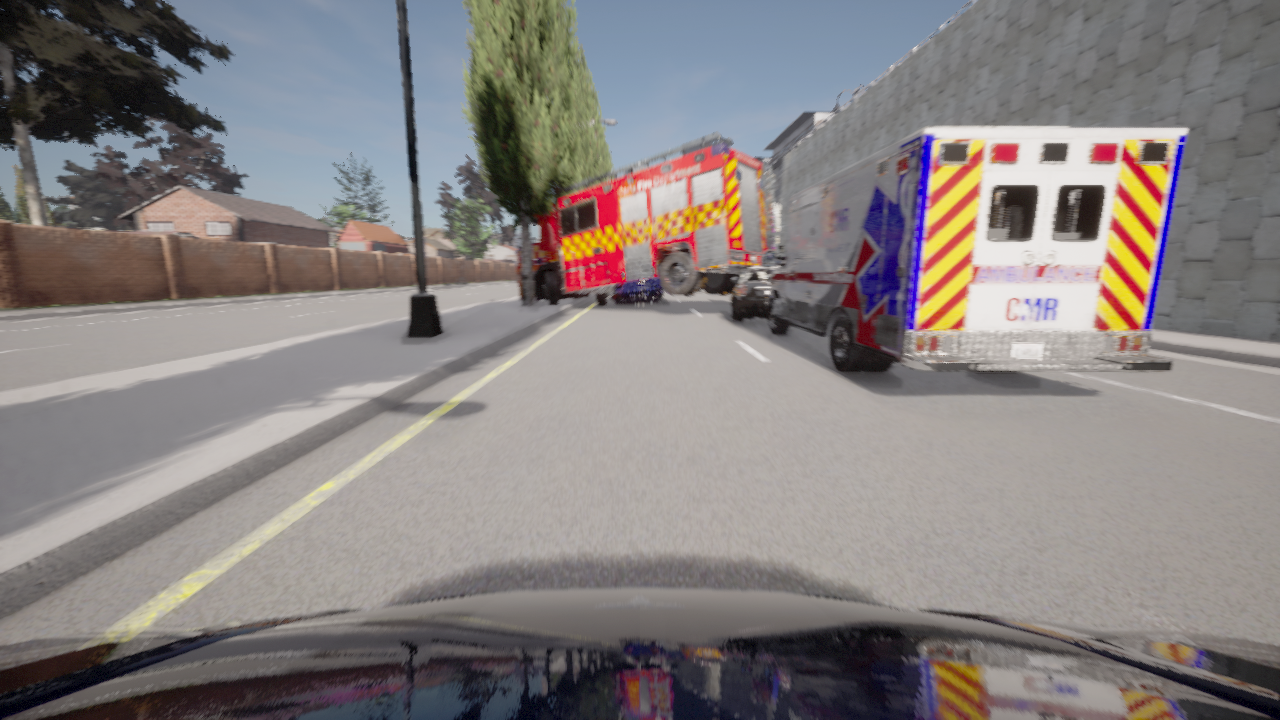cyclist: (0, 588, 1279, 719), (761, 127, 1188, 372), (515, 132, 778, 306), (731, 266, 778, 320), (609, 286, 663, 304), (699, 290, 702, 292)
